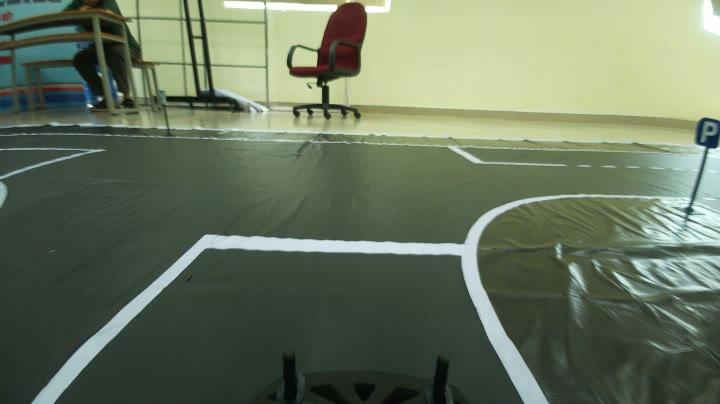parking: (693, 115, 718, 148)
